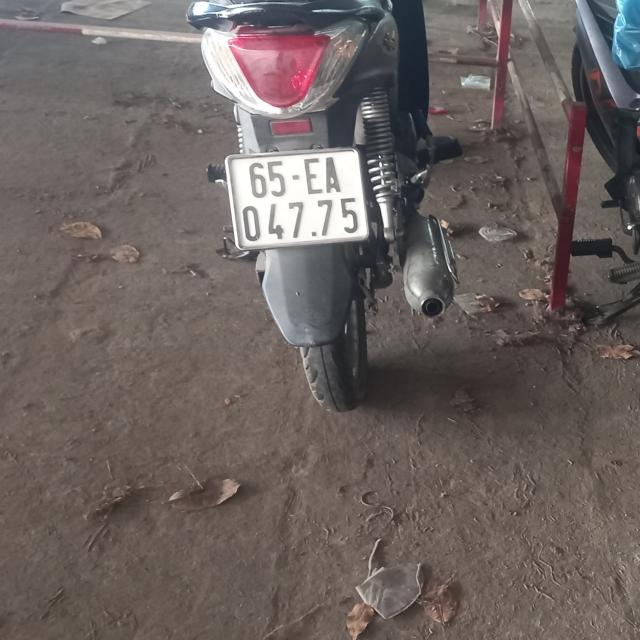0: (242, 206, 260, 240)
4: (266, 203, 284, 240)
5: (267, 160, 287, 198), (340, 198, 359, 233)
6: (248, 162, 268, 200)
7: (288, 202, 306, 238), (318, 200, 333, 237)
A: (324, 156, 340, 192)
E: (304, 158, 322, 196)
